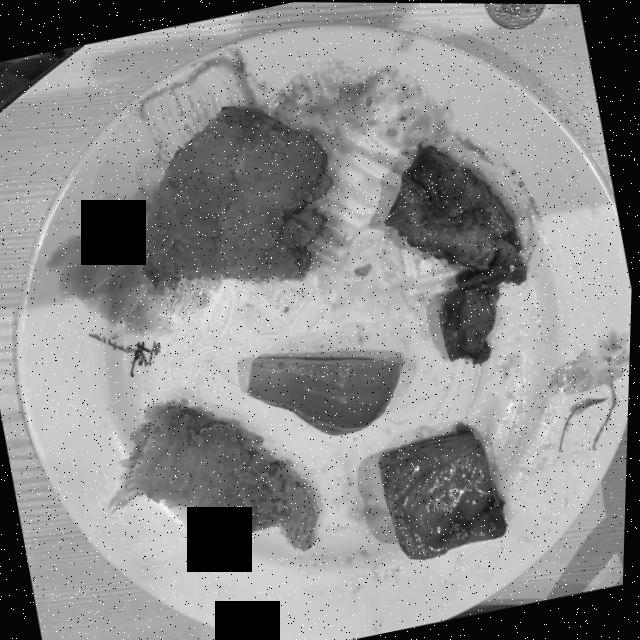coin: (485, 3, 544, 27)
creamy tofu: (386, 142, 528, 362), (381, 430, 509, 558)
fried chicken cutlet: (144, 104, 331, 292), (119, 405, 319, 549)
